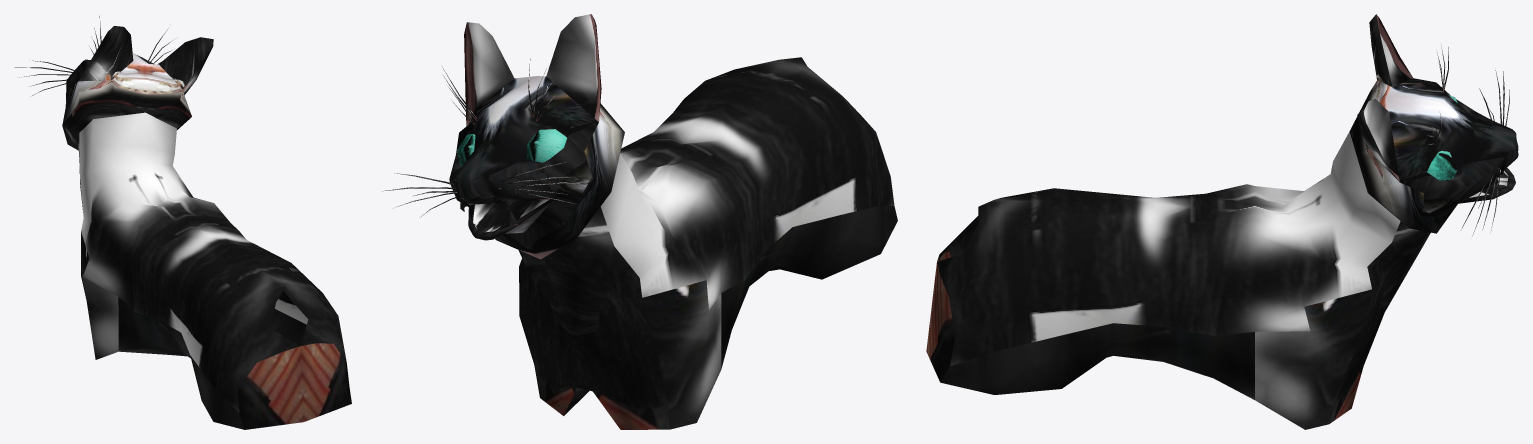
The model's file is Cat_Torso.obj.
The picture shows the model from 3 angles, left to right: view 1: azimuth 30°, elevation 25°; view 2: azimuth 150°, elevation 25°; view 3: azimuth 270°, elevation 25°; orthographic projection. The views are drawn at different scales.
Size of the model in its own units: 0.5062 by 0.8783 by 1.25.
